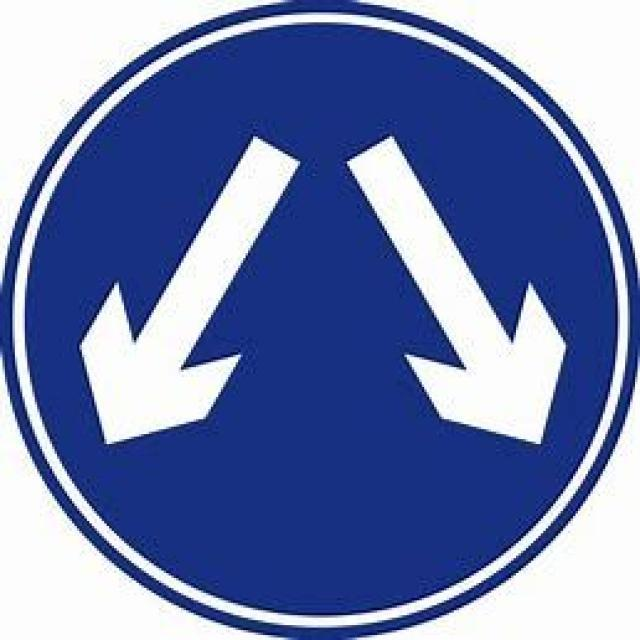pass either side: (31, 21, 618, 614)
